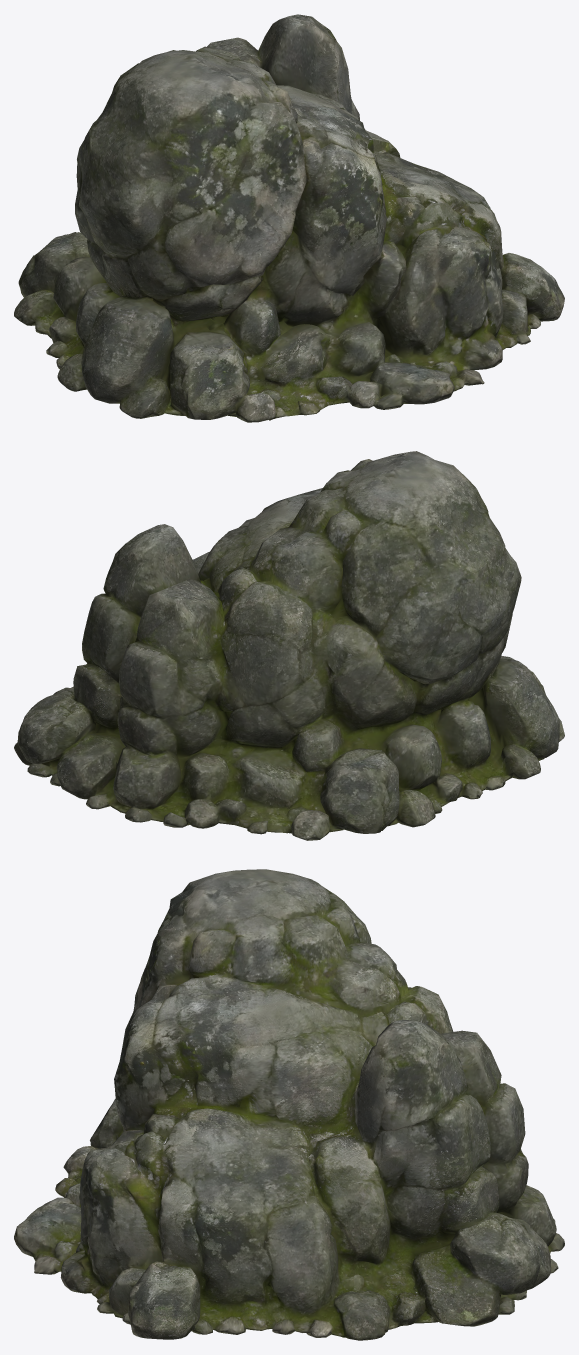
The model's file is t951_boulders_b.glb.
The picture shows the model from 3 angles, top to bottom: view 1: azimuth 30°, elevation 25°; view 2: azimuth 150°, elevation 25°; view 3: azimuth 270°, elevation 25°; orthographic projection. The views are drawn at different scales.
Parts seen in each view (by area): view 1: tripo_node_485e5e0f-4b7e-4d60-a253-380f07932db5; view 2: tripo_node_485e5e0f-4b7e-4d60-a253-380f07932db5; view 3: tripo_node_485e5e0f-4b7e-4d60-a253-380f07932db5.
Part boxes in pixels (x1,y1,x2,y2): tripo_node_485e5e0f-4b7e-4d60-a253-380f07932db5: [14, 14, 564, 422]; tripo_node_485e5e0f-4b7e-4d60-a253-380f07932db5: [14, 451, 564, 840]; tripo_node_485e5e0f-4b7e-4d60-a253-380f07932db5: [14, 869, 564, 1340].
Size of the model in its own units: 0.9817 by 0.5891 by 0.9781.
1 material, 1 textured.
